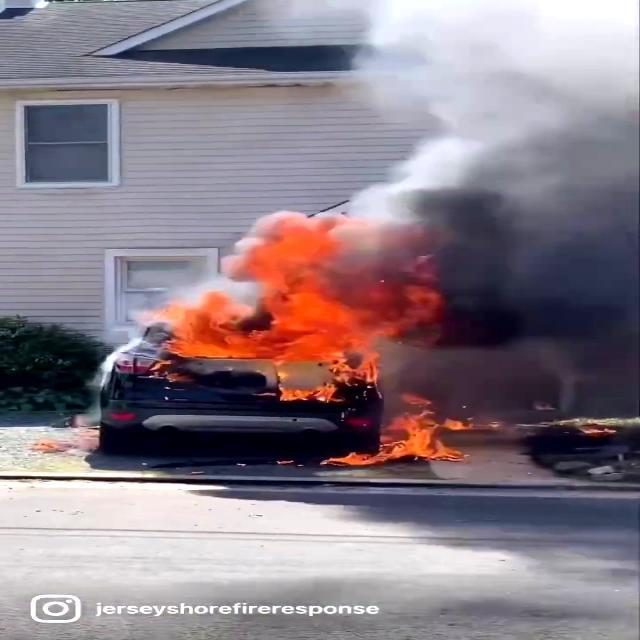Fire: (140, 214, 393, 386), (326, 403, 458, 475)
Smoke: (314, 0, 636, 425)
